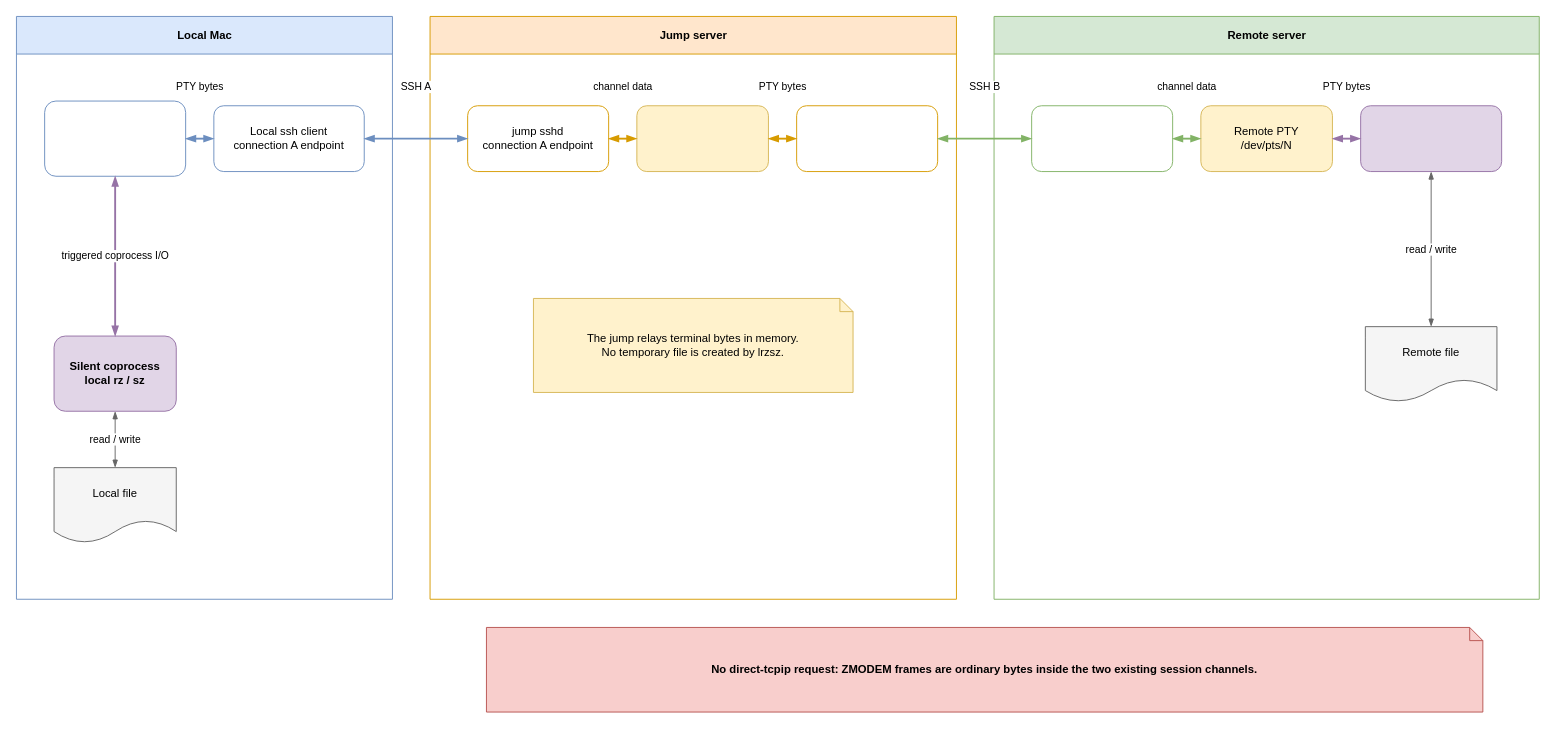
Some shapes in this 1556 by 729 pixel diagram are drawn without their labels. Each missing label, with the centre of its shape:
"iTerm2" goes at [115,138].
"Jump PTY master / slave" goes at [702,138].
"Remote lrzsz sz / rz" goes at [1431,138].
"remote sshd connection B endpoint" goes at [1102,138].
"ssh client on jump connection B endpoint" goes at [867,138].
